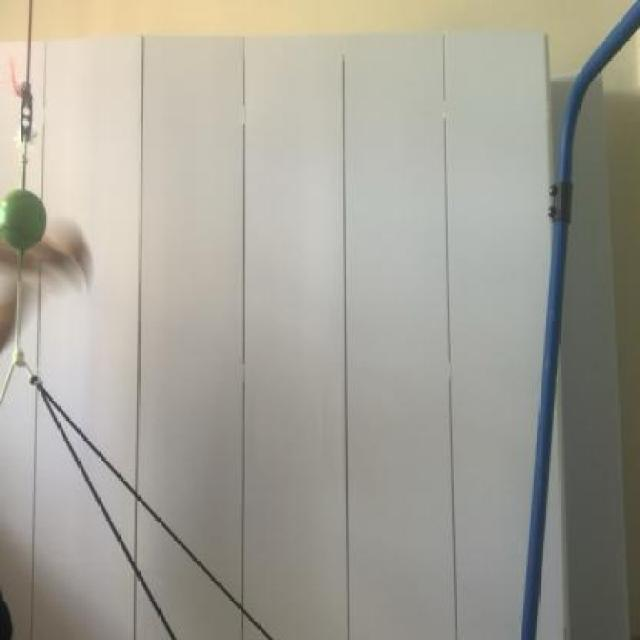baseball: (0, 177, 57, 269)
